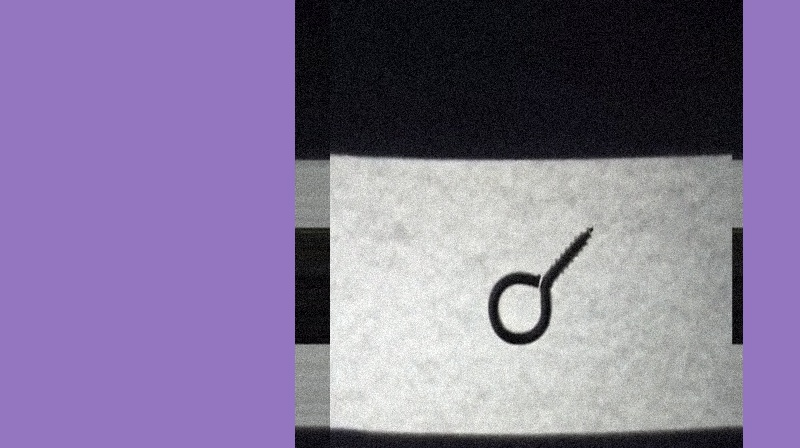O001: (484, 217, 602, 350)
